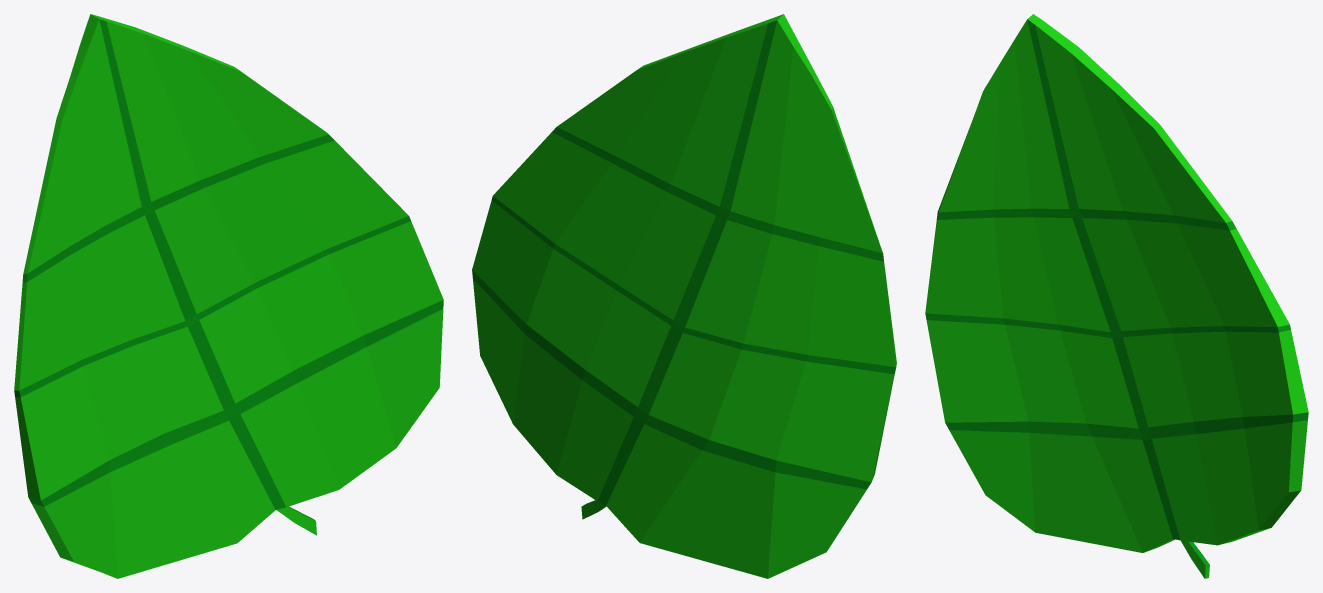
The model's file is Leaf.fbx.
3 views of the same model, side by side, from view 1: azimuth 30°, elevation 25°; view 2: azimuth 150°, elevation 25°; view 3: azimuth 330°, elevation 25° (orthographic). The views are drawn at different scales.
Visible parts, largest first — view 1: Leaf; view 2: Leaf; view 3: Leaf.
Part boxes in pixels (bbox=[...]): Leaf: bbox=[14, 14, 443, 578]; Leaf: bbox=[472, 14, 896, 578]; Leaf: bbox=[925, 14, 1308, 578].
Size of the model in its own units: 977 by 1238 by 150.
